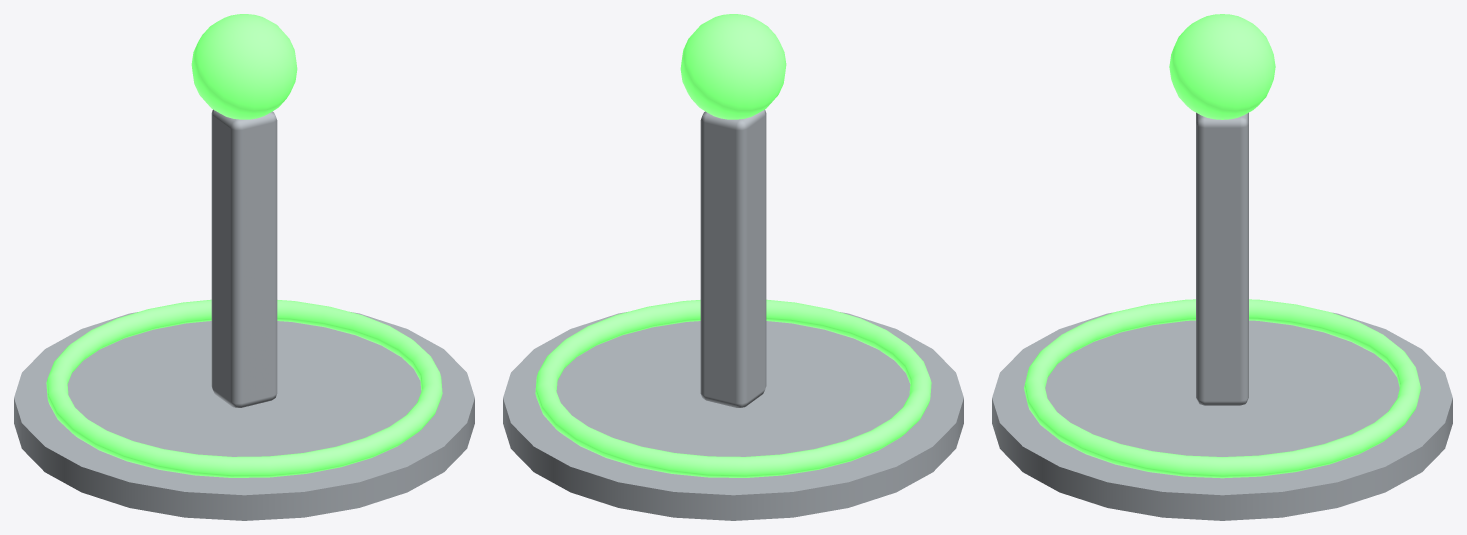
File: arena-shooter-map-kit-control-point-marker-0d96f1d4__23128.glb
The picture shows the model from 3 angles, left to right: view 1: azimuth 30°, elevation 25°; view 2: azimuth 150°, elevation 25°; view 3: azimuth 270°, elevation 25°; orthographic projection.
Visible parts, largest first — view 1: control-point-marker; view 2: control-point-marker; view 3: control-point-marker.
Boxes of the visible parts, <box> form: control-point-marker: <box>14,14,474,520</box>; control-point-marker: <box>503,14,963,520</box>; control-point-marker: <box>992,14,1452,520</box>.
Size of the model in its own units: 1.3 by 1.26 by 1.3.
